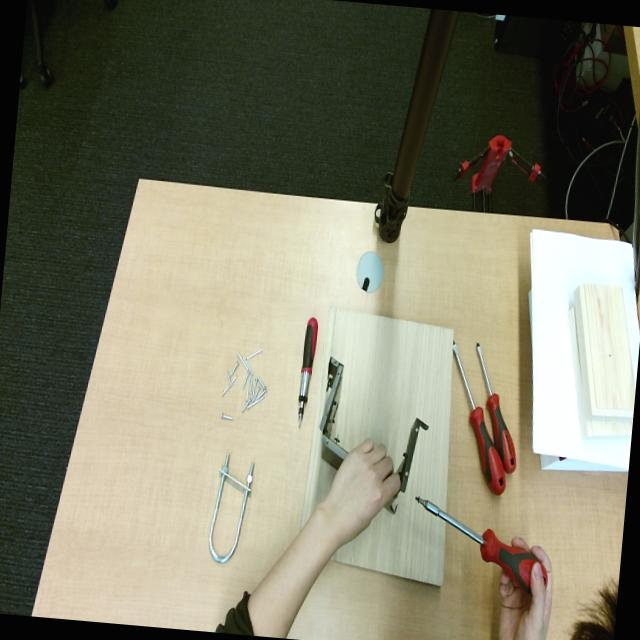screwdriver: (415, 496, 548, 592), (452, 344, 505, 494), (476, 343, 516, 473), (298, 317, 318, 425)
